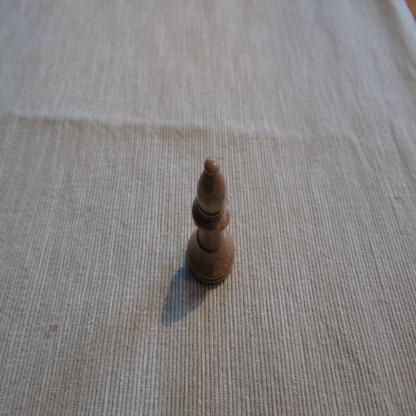white-bishop: (185, 155, 237, 286)
